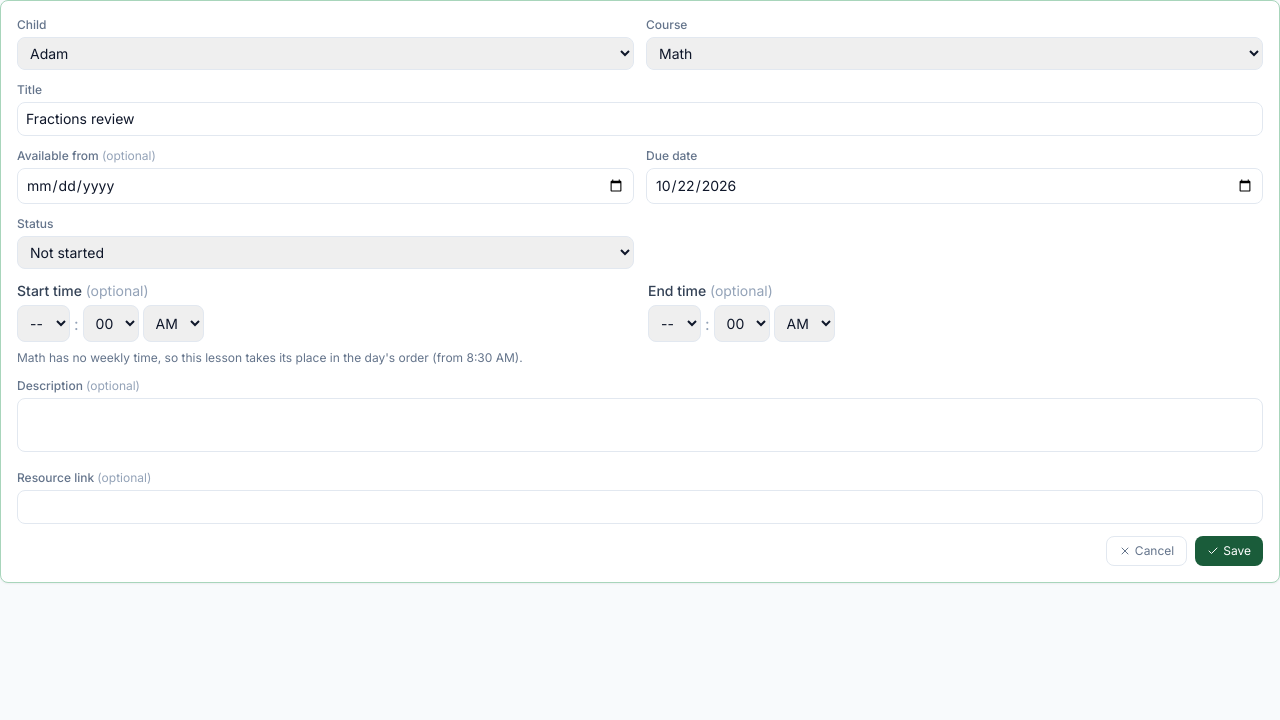
it: LessonCard inline editor — lesson times › rejects an end time before the start time and does not save
Select "2" in the dropdown named "Start time hour": coordinates (44, 324) [17,305,70,342]
Select "00" in the dropdown named "Start time minute": coordinates (111, 324) [83,305,139,342]
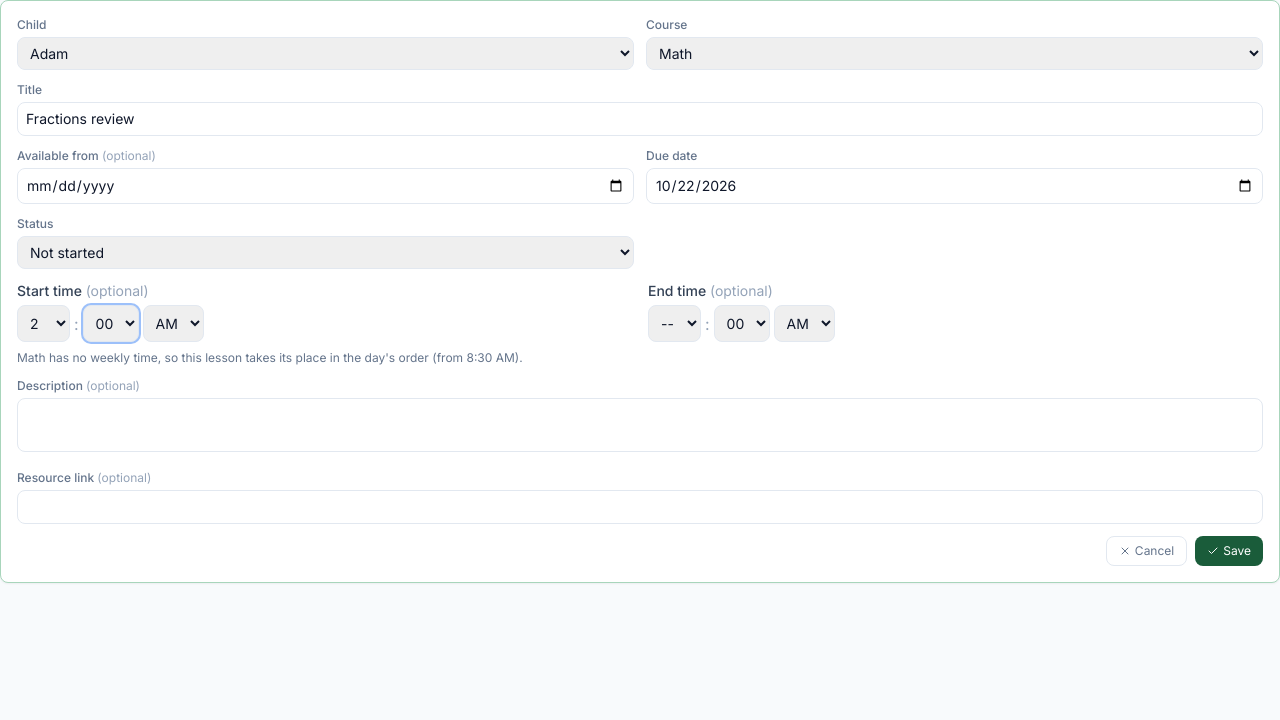
Select "PM" in the dropdown named "Start time period": coordinates (173, 324) [143,305,204,342]
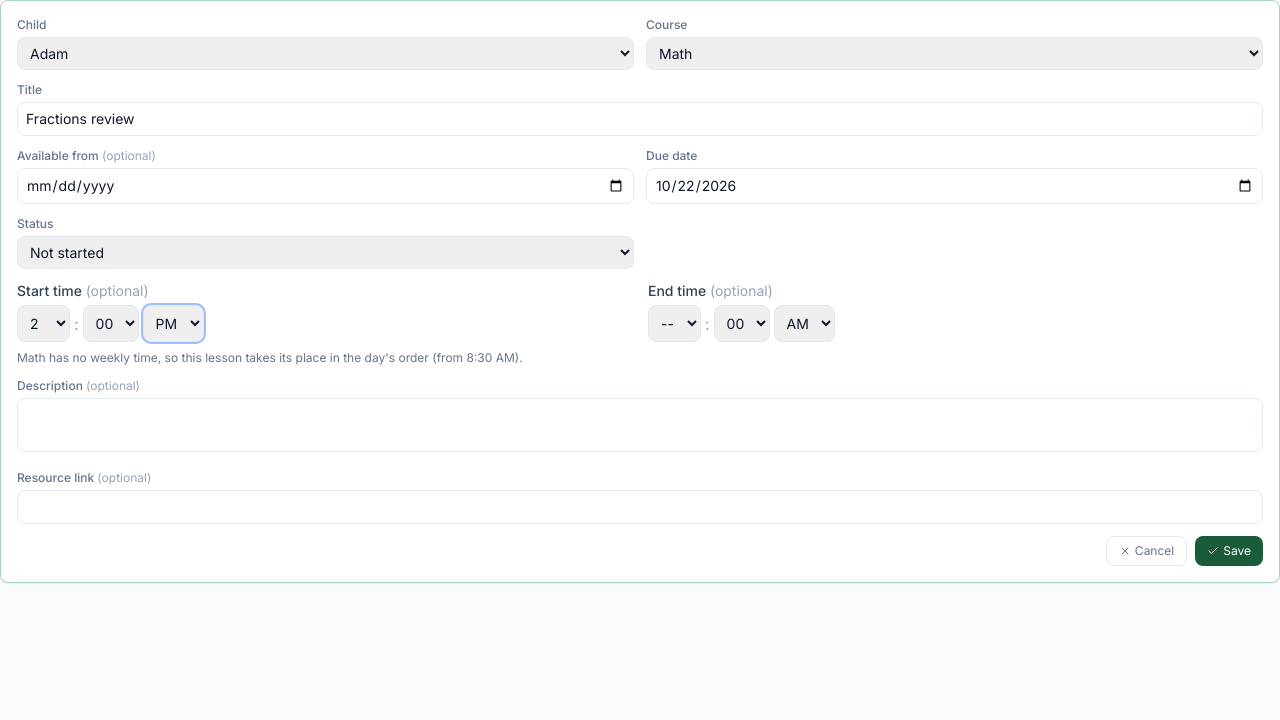
Select "1" in the dropdown named "End time hour": coordinates (674, 324) [648,305,701,342]
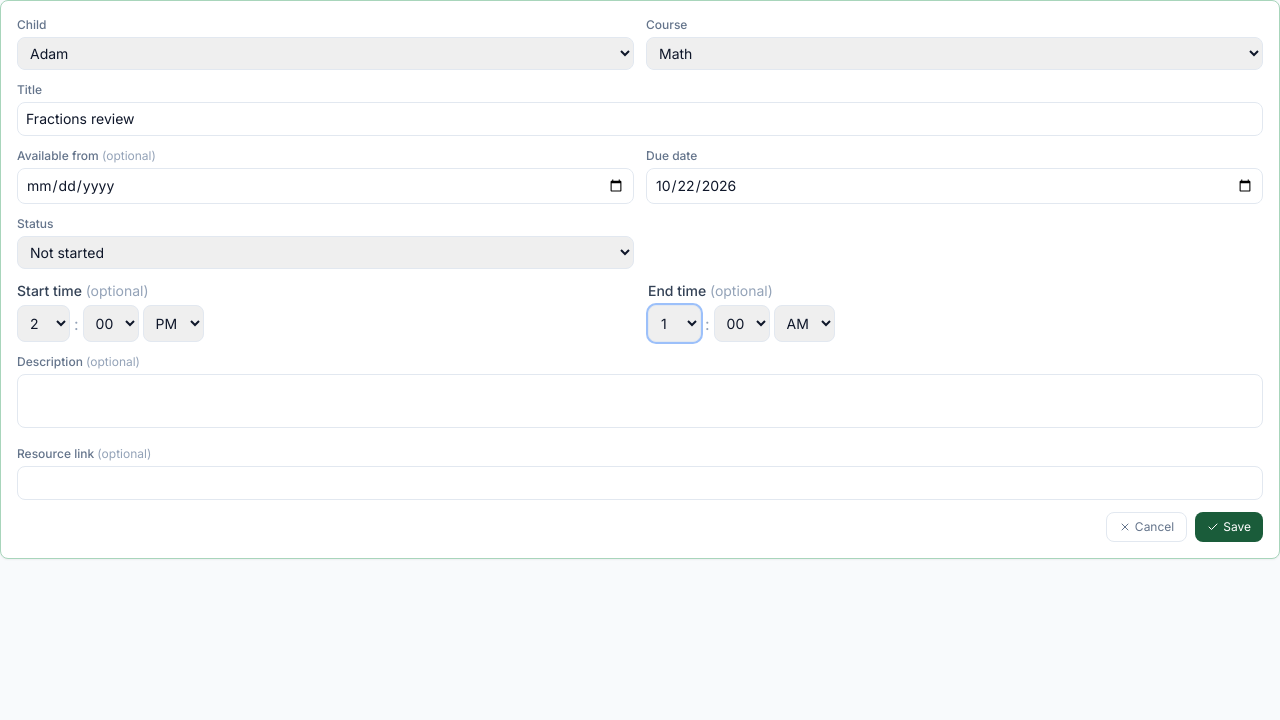
Select "30" in the dropdown named "End time minute": coordinates (742, 324) [714,305,770,342]
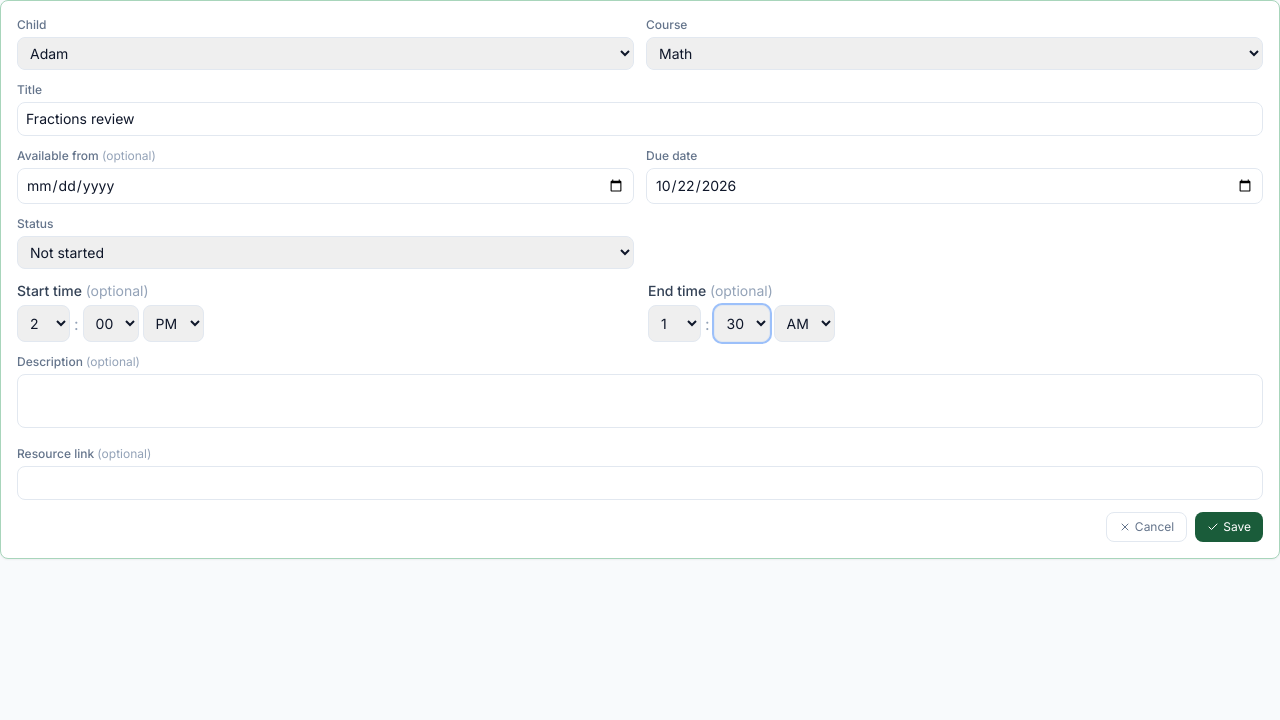
Select "PM" in the dropdown named "End time period": coordinates (804, 324) [774,305,835,342]
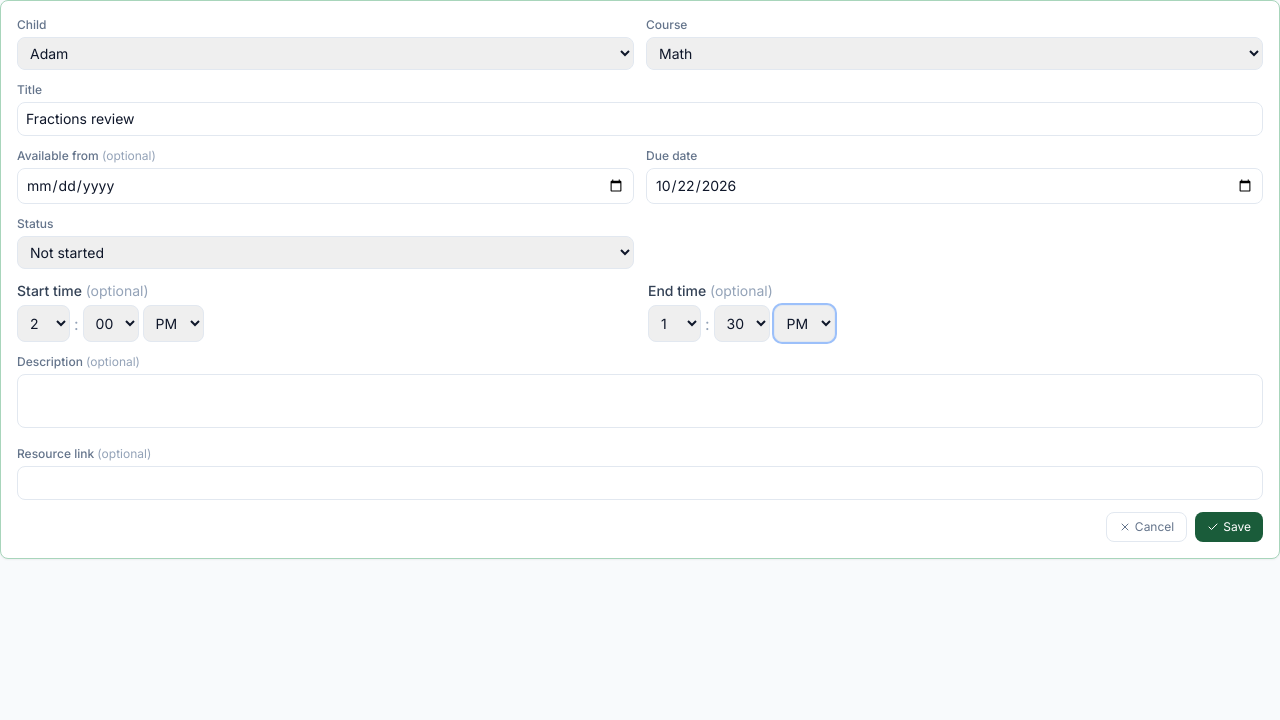
Click the button "Save": coordinates (1229, 527) [1195,512,1263,542]
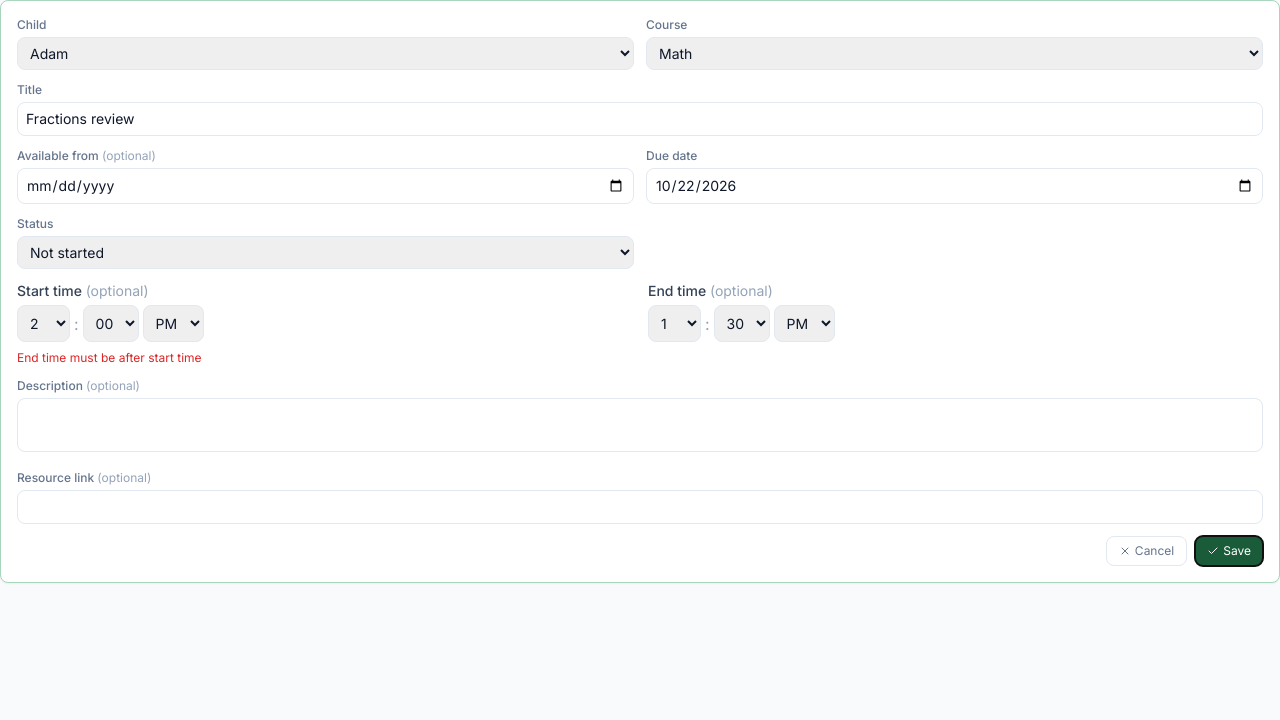
Expected: the text "End time must be after start time" is shown, [17,350,202,365]
